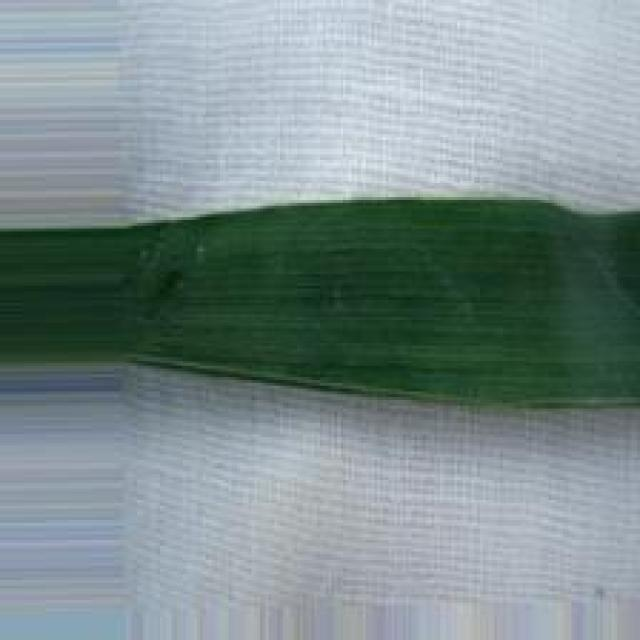Healthy: (0, 200, 640, 412)
